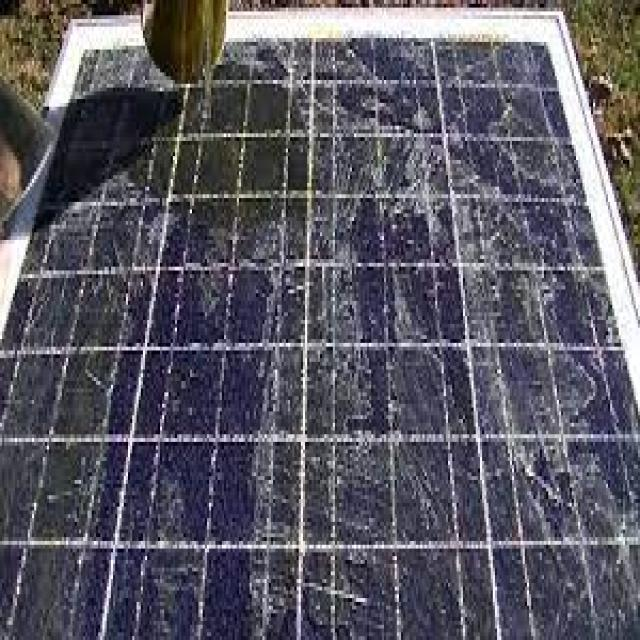faulty: (23, 38, 640, 640)
